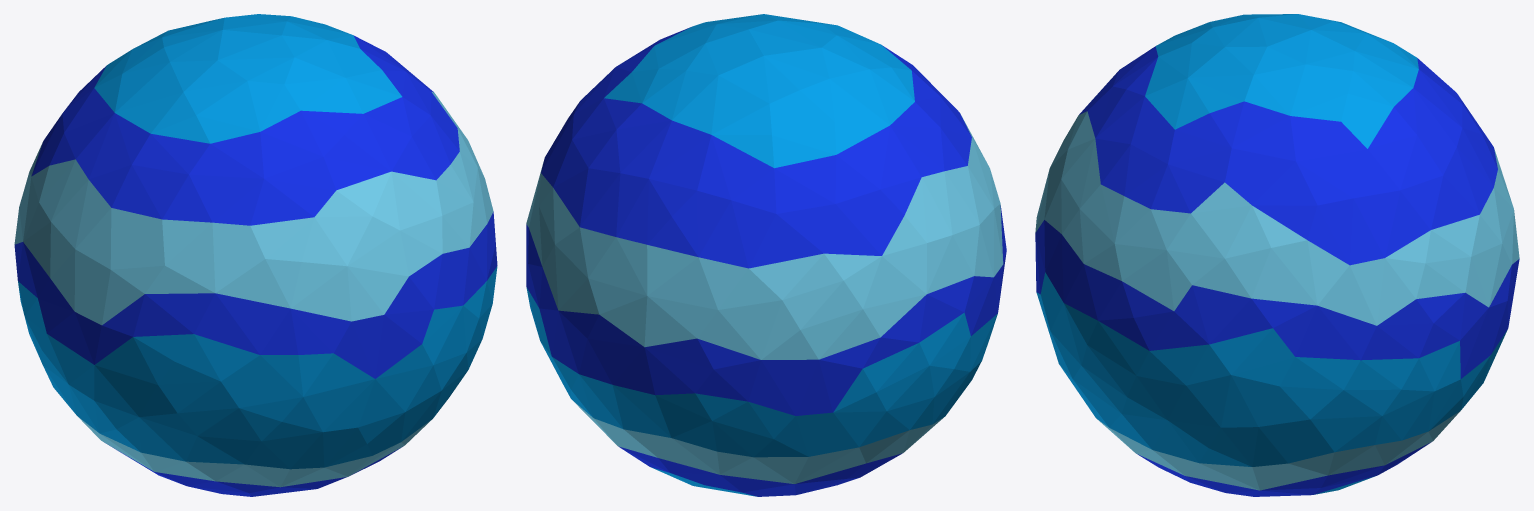
Rendered from planet_3.fbx.
3 views of the same model, side by side, from view 1: azimuth 30°, elevation 25°; view 2: azimuth 150°, elevation 25°; view 3: azimuth 270°, elevation 25° (orthographic).
Parts seen in each view (by area): view 1: planet_3; view 2: planet_3; view 3: planet_3.
Boxes of the visible parts, x1,y1,x2,y2 form: planet_3: (14,14,497,496); planet_3: (526,14,1006,496); planet_3: (1035,14,1519,496).
Size of the model in its own units: 629 by 630 by 627.
